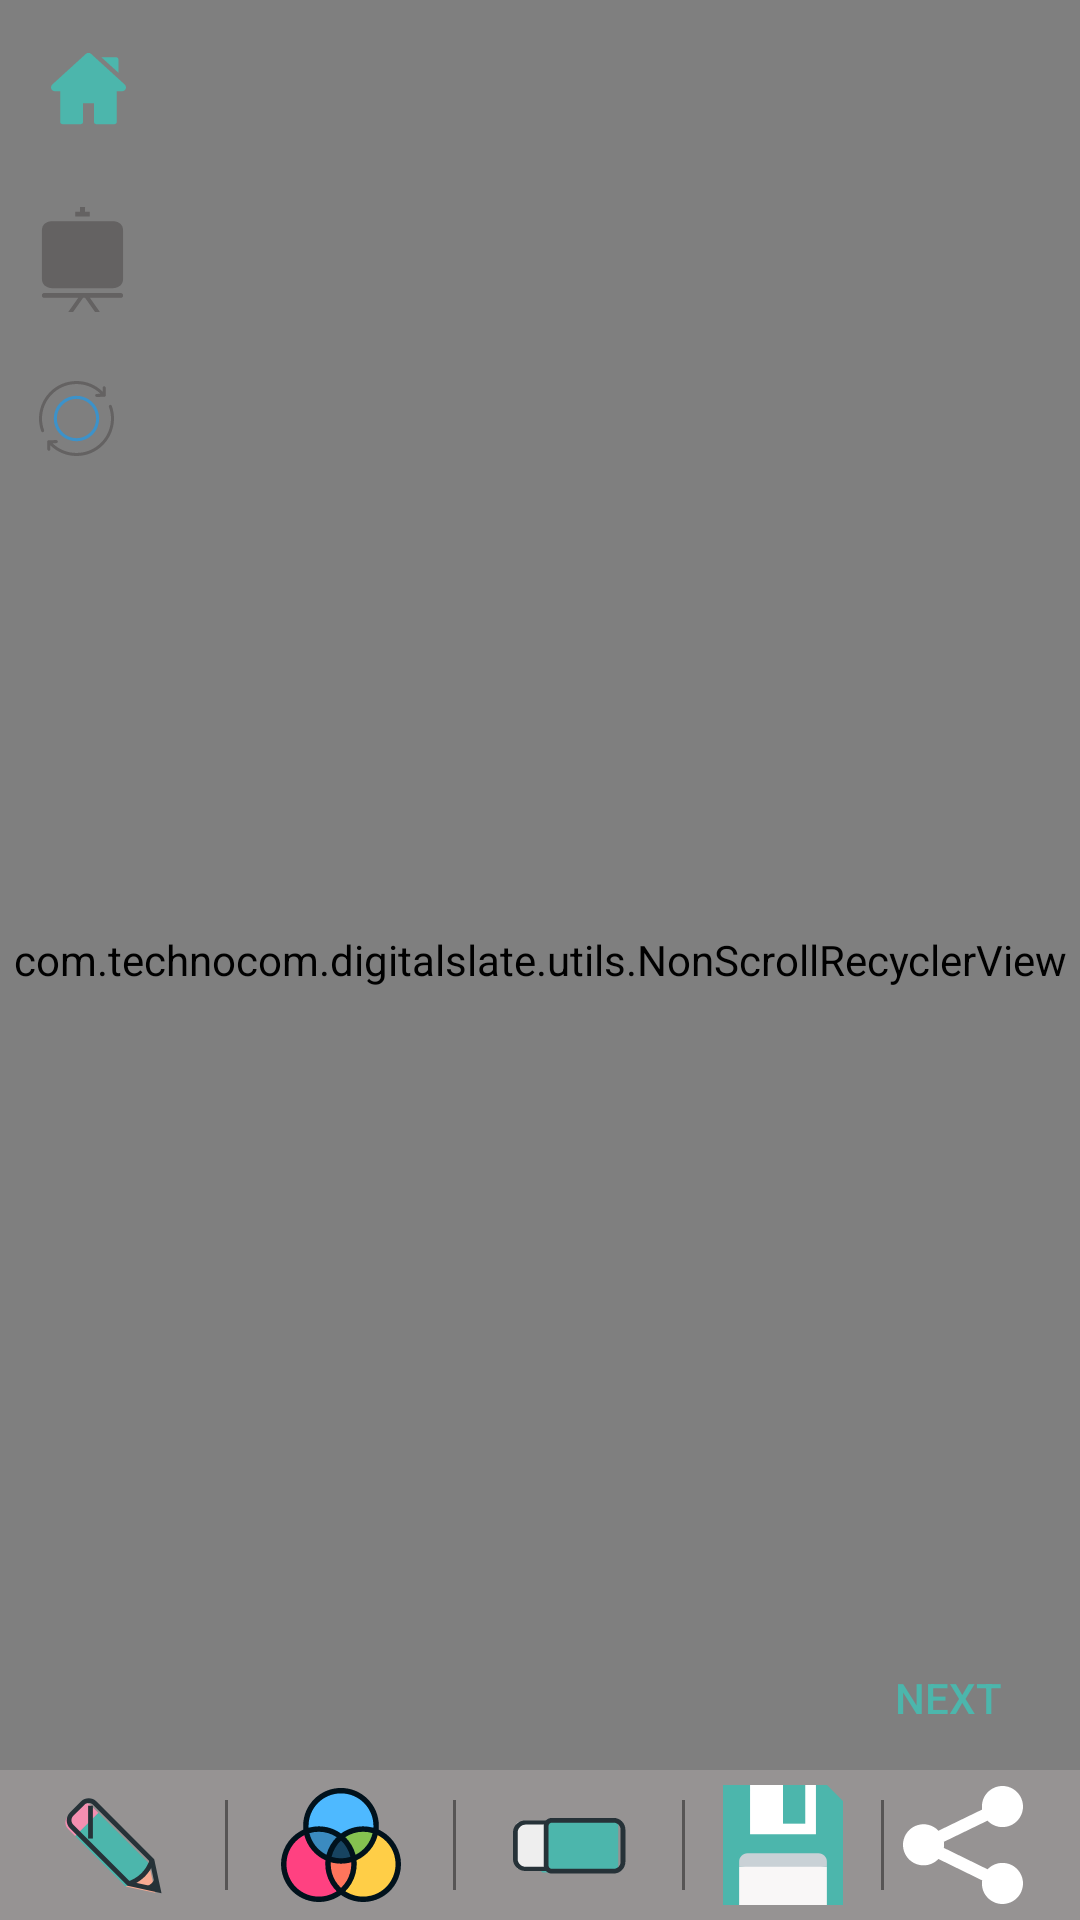

Icon bounding boxes for this 1080px×1920px phone screenshot, format {"x1": x1, "y1": y1, "x2": x2, "y2": y2}:
eraser: {"x1": 513, "y1": 1818, "x2": 626, "y2": 1874}
home: {"x1": 51, "y1": 53, "x2": 126, "y2": 124}
orientation: {"x1": 39, "y1": 381, "x2": 114, "y2": 456}
pencil: {"x1": 65, "y1": 1798, "x2": 162, "y2": 1893}
save: {"x1": 723, "y1": 1785, "x2": 843, "y2": 1905}
share: {"x1": 903, "y1": 1786, "x2": 1023, "y2": 1904}
